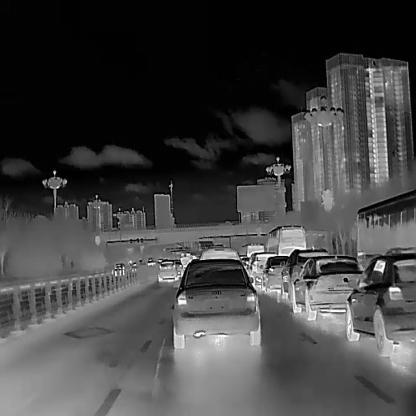car: (170, 256, 261, 348), (344, 251, 415, 356), (349, 189, 416, 271), (291, 253, 369, 321), (279, 246, 330, 299), (265, 224, 306, 260), (258, 255, 293, 293), (247, 251, 279, 288), (199, 244, 242, 261), (157, 259, 179, 282), (246, 242, 264, 258), (172, 259, 185, 277), (111, 263, 126, 276)
